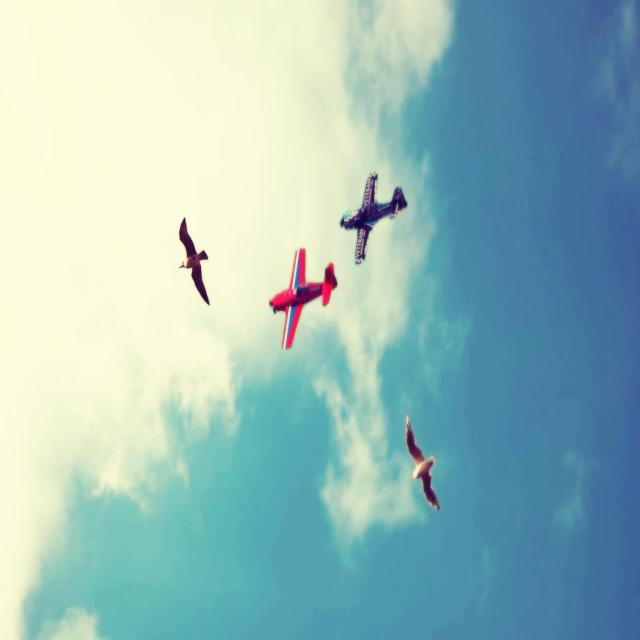airplane: (268, 246, 338, 350), (339, 170, 408, 265)
